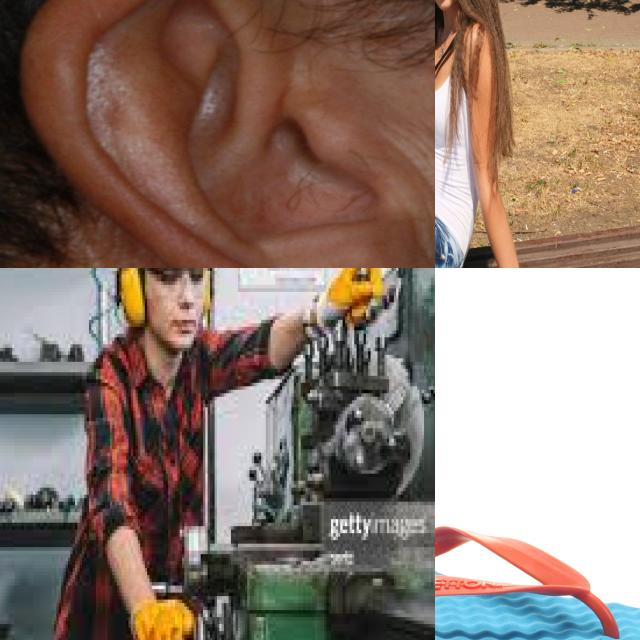Ear-protection: (112, 268, 142, 323)
No_Ear-Protection: (13, 0, 435, 268)
Sandals: (435, 524, 640, 640)
glasses: (144, 268, 212, 292)
hand_glove: (310, 268, 389, 335), (133, 587, 199, 640)
person: (84, 268, 389, 640)
